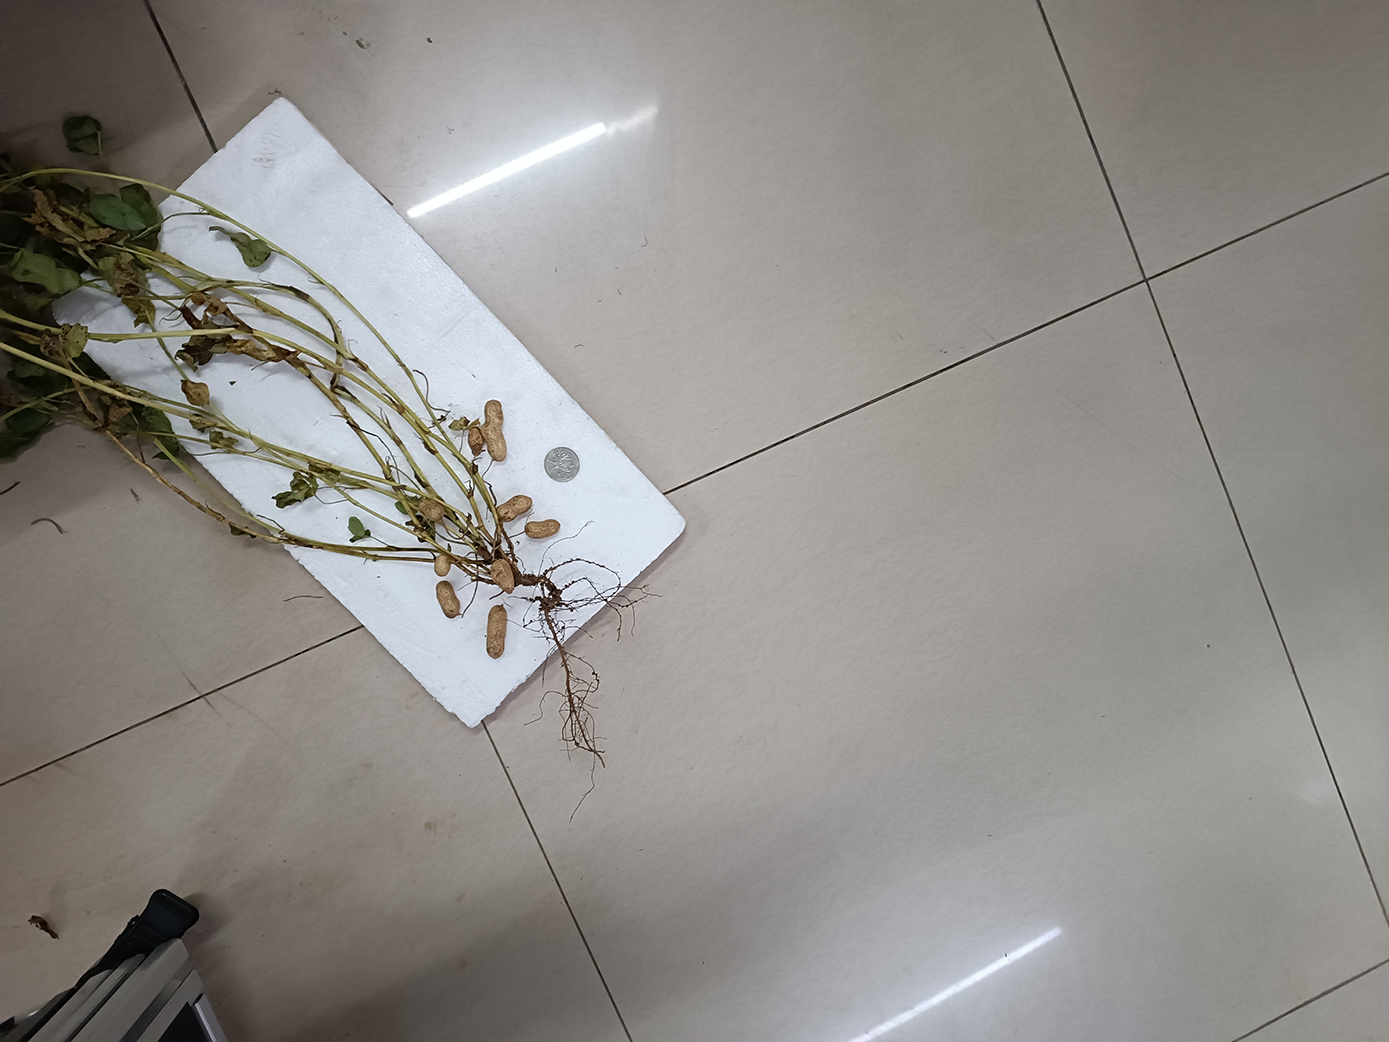h: (483, 400, 506, 462), (486, 605, 508, 658), (495, 494, 533, 523), (435, 580, 461, 620), (490, 558, 514, 593), (524, 519, 562, 539), (419, 499, 444, 521), (435, 555, 452, 576)
l: (468, 422, 486, 455)
